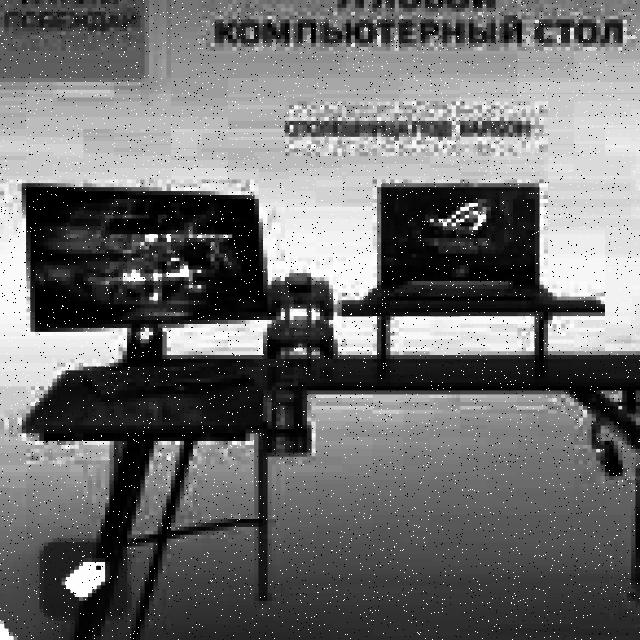table: (22, 351, 640, 640)
